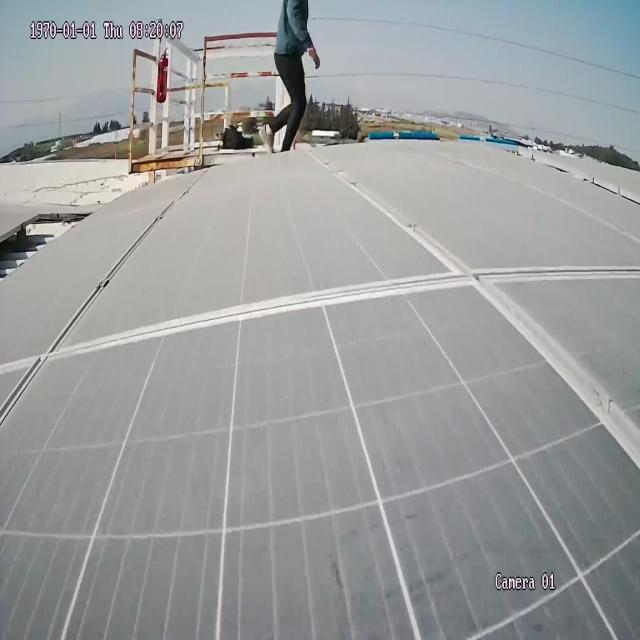interior panel: (0, 154, 640, 460)
outher panel: (1, 208, 80, 284)
